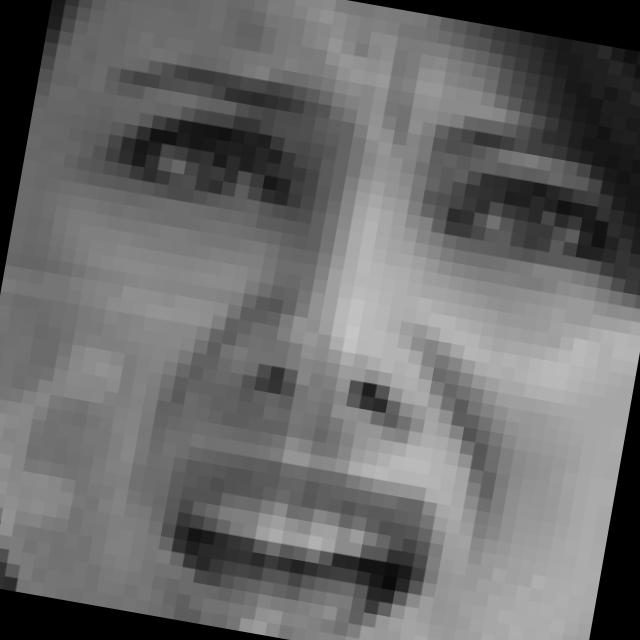disgust: (24, 41, 639, 640)
